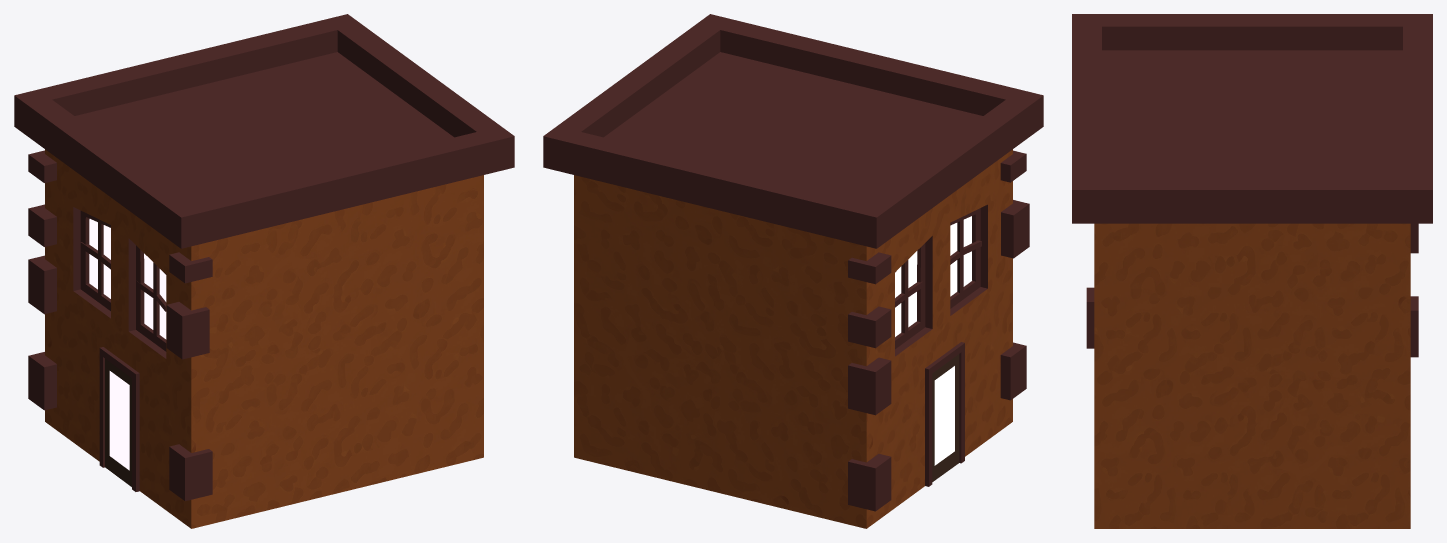
Rendered from Chocolate chip building.fbx.
3 views of the same model, side by side, from view 1: azimuth 30°, elevation 25°; view 2: azimuth 150°, elevation 25°; view 3: azimuth 270°, elevation 25° (orthographic). The views are drawn at different scales.
Visible parts, largest first — view 1: Brownie building; view 2: Brownie building; view 3: Brownie building.
Part boxes in pixels (bbox=[...]): Brownie building: bbox=[14, 14, 514, 528]; Brownie building: bbox=[543, 14, 1043, 528]; Brownie building: bbox=[1072, 14, 1432, 528].
Bounding box in the file's own units: 1224 × 1137 × 1062.
4 materials, 1 textured.
